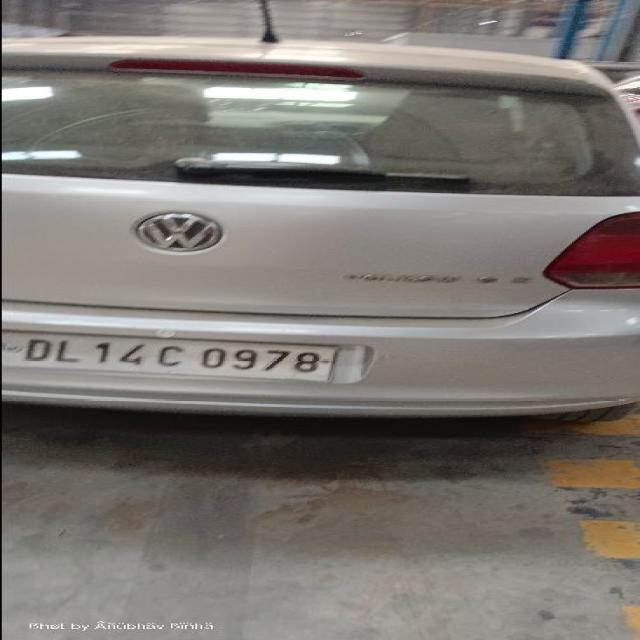license_plate: (2, 329, 340, 384)
